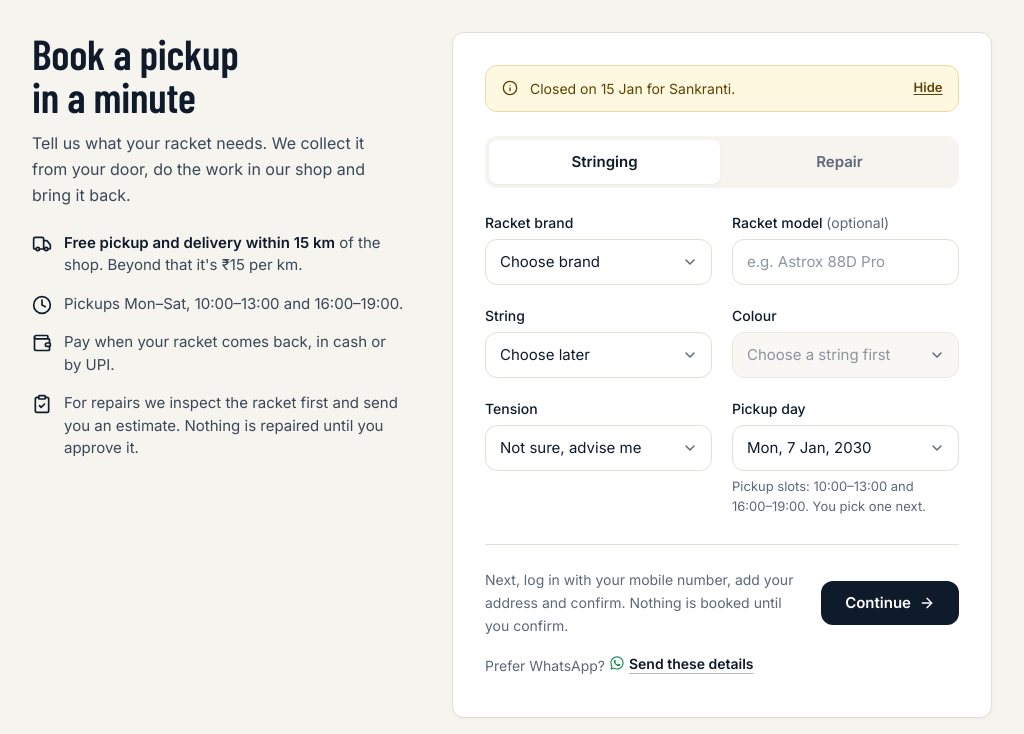
BookingSection › the Stringing / Repair toggle swaps the fields
The image size is (1024, 734).
Step 1. Click the radio button labelled "Repair" → (840, 161), box [816,152,863,171]
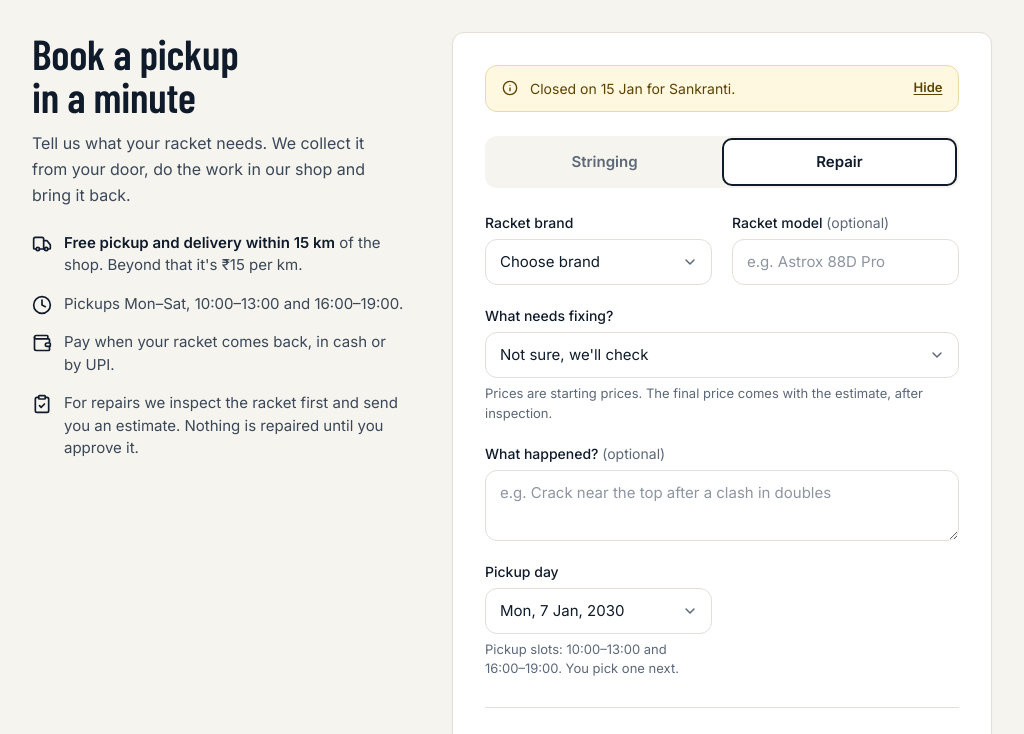
Now the radio button labelled "Repair" is checked, box [724,140,955,184]
Now the text box labelled "What happened? (optional)" is shown, box [485,470,959,541]
Now the label labelled "Colour" is gone
Step 2. Click the radio button labelled "Stringing" → (605, 161), box [572,152,638,171]
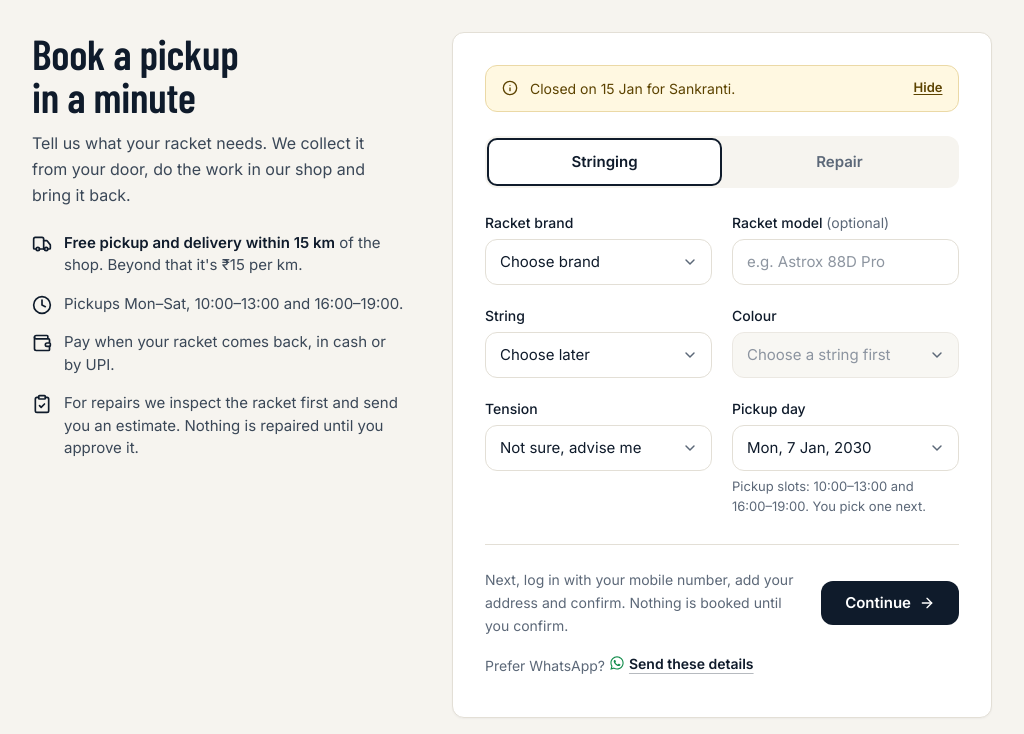
Now the dropdown labelled "String" is shown, box [485,332,712,378]
Now the label labelled "What needs fixing?" is gone
